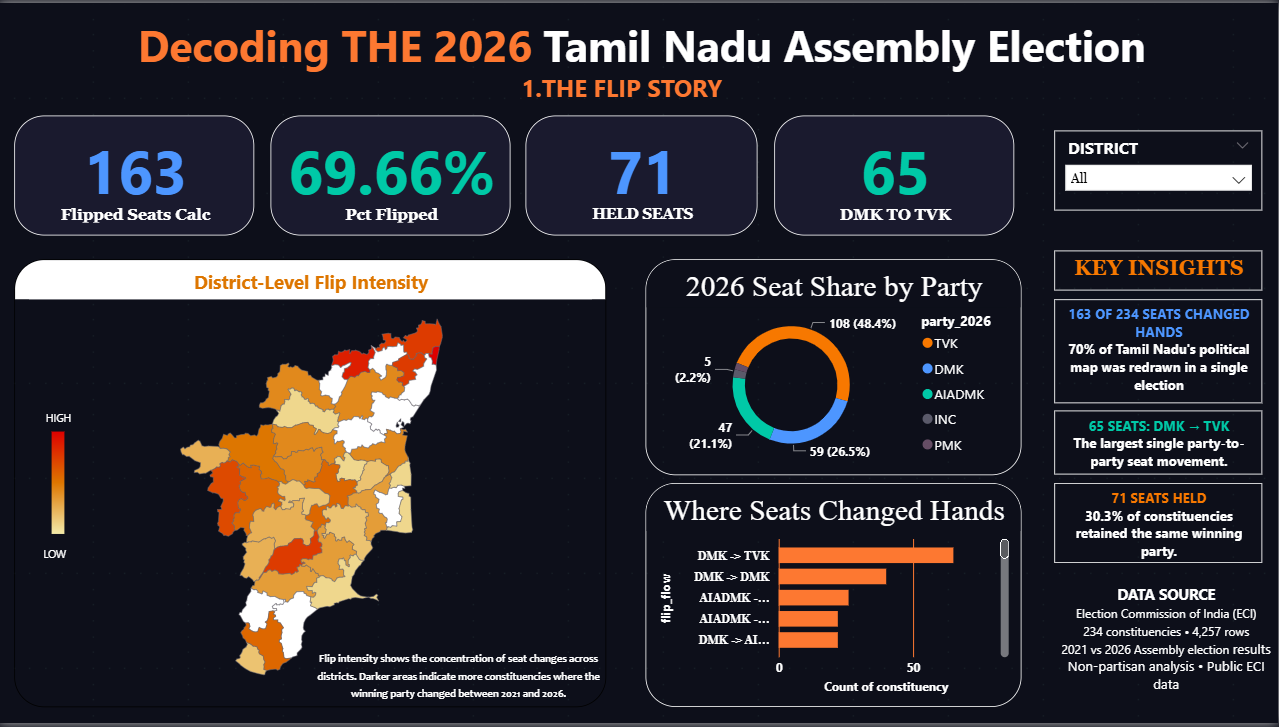

What the dashboard file says about the page in this screenshot:
{"tool":"powerbi","page":{"name":"STORY 1","canvas":[1280,720],"ordinal":0},"visuals":[{"type":"card","fields":{"Values":["tn_election_constituency_summary (3).Flipped Seats Calc"]},"box":[16,112,240,120],"z":0},{"type":"card","fields":{"Values":["tn_election_constituency_summary (3).HELD SEATS"]},"box":[528,112,232,120],"z":1000},{"type":"card","fields":{"Values":["tn_election_constituency_summary (3).DMK2TVK"]},"box":[776,112,240,120],"z":2000},{"type":"card","fields":{"Values":["tn_election_constituency_summary (3).Pct Flipped"]},"box":[272,112,240,120],"z":3000},{"type":"textbox","box":[104,8,1080,88],"z":4000},{"type":"clusteredBarChart","title":"Where Seats Changed Hands","fields":{"Category":["tn_election_constituency_summary (3).flip_flow"],"Y":["CountNonNull(tn_election_constituency_summary (3).constituency)"]},"box":[648,480,376,224],"z":5000},{"type":"shapeMap","title":"District-Level Flip Intensity","fields":{"Category":["tn_election_constituency_summary (3).district"],"Value":["tn_election_constituency_summary (3).Flipped Seats Calc"]},"box":[16,256,592,448],"z":6000},{"type":"donutChart","title":"2026 Seat Share by Party","fields":{"Y":["CountNonNull(tn_election_constituency_summary (3).constituency)"],"Category":["tn_election_constituency_summary (3).party_2026"]},"box":[648,256,376,216],"z":7000},{"type":"textbox","box":[1056,248,208,40],"z":8000},{"type":"textbox","box":[1056,296,208,104],"z":9000},{"type":"textbox","box":[1056,408,208,64],"z":10000},{"type":"textbox","box":[1056,480,208,80],"z":11000},{"type":"textbox","box":[1056,576,224,144],"z":12000},{"type":"slicer","fields":{"Values":["tn_election_constituency_summary (3).district"]},"box":[1056,128,208,80],"z":13000},{"type":"textbox","box":[312,640,296,64],"z":14000},{"type":"image","box":[0,424,120,112],"z":15000},{"type":"textbox","box":[32,536,48,32],"z":16000},{"type":"textbox","box":[32,400,56,32],"z":17000},{"type":"textbox","box":[464,64,320,64],"z":18000}]}

Visuals, with their boxes in screenshot pixels (x1, y1, x2, y2), scaled from the page's 1280x720 canvas onto the 1279x727 screenshot:
card - tn_election_constituency_summary (3).Flipped Seats Calc: region(16, 113, 256, 234)
card - tn_election_constituency_summary (3).HELD SEATS: region(528, 113, 759, 234)
card - tn_election_constituency_summary (3).DMK2TVK: region(775, 113, 1015, 234)
card - tn_election_constituency_summary (3).Pct Flipped: region(272, 113, 512, 234)
textbox: region(104, 8, 1183, 97)
"Where Seats Changed Hands" clusteredBarChart: region(647, 485, 1023, 711)
"District-Level Flip Intensity" shapeMap: region(16, 258, 608, 711)
"2026 Seat Share by Party" donutChart: region(647, 258, 1023, 477)
textbox: region(1055, 250, 1263, 291)
textbox: region(1055, 299, 1263, 404)
textbox: region(1055, 412, 1263, 477)
textbox: region(1055, 485, 1263, 565)
textbox: region(1055, 582, 1278, 726)
slicer - tn_election_constituency_summary (3).district: region(1055, 129, 1263, 210)
textbox: region(312, 646, 608, 711)
image: region(0, 428, 120, 541)
textbox: region(32, 541, 80, 574)
textbox: region(32, 404, 88, 436)
textbox: region(464, 65, 783, 129)
